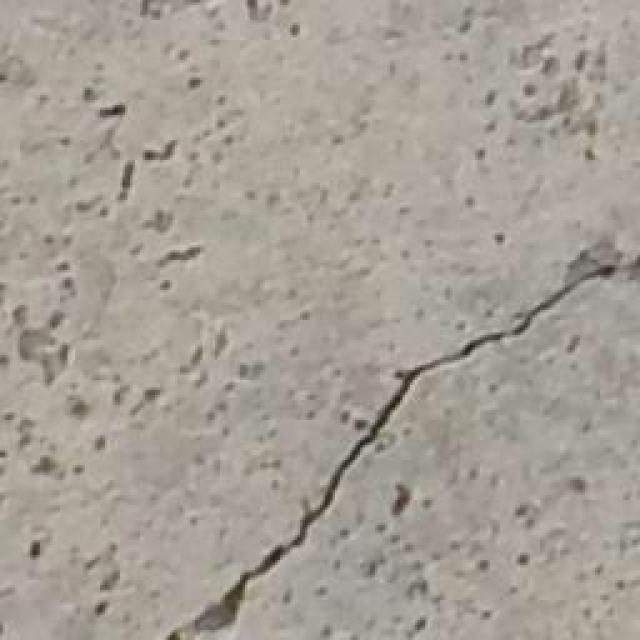concrete-crack: (168, 262, 639, 640)
